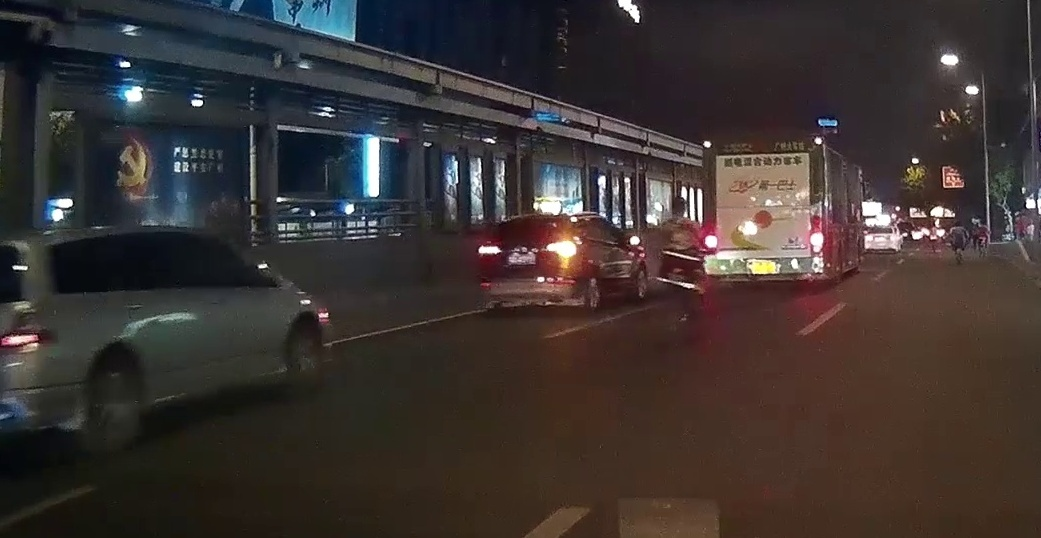L_light: (703, 217, 716, 255), (478, 245, 501, 255)
R_light: (811, 217, 822, 253), (546, 242, 573, 253)
T_light: (750, 145, 768, 150), (521, 219, 536, 223)
night-no: (702, 137, 823, 290)
night-right: (478, 214, 576, 314)
